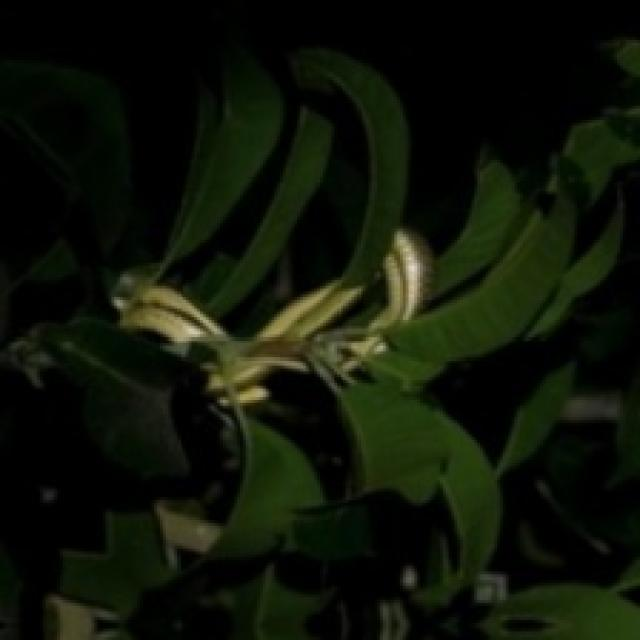paradise tree snake: (114, 229, 431, 403), (309, 229, 431, 377)
